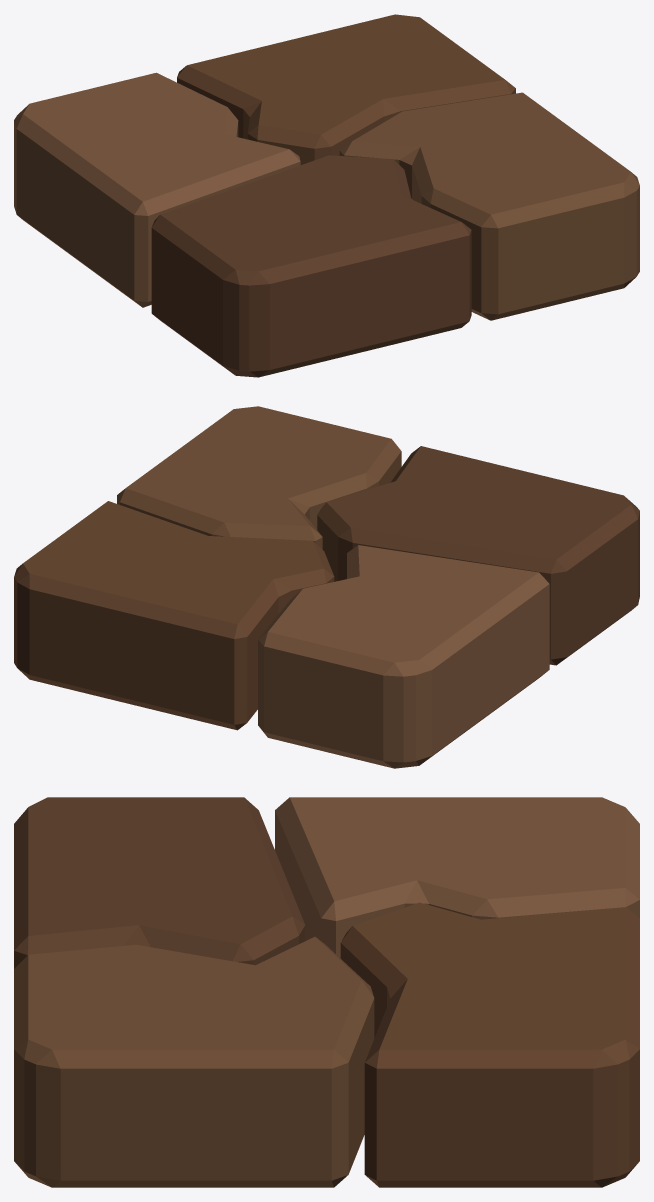
The model's file is crumbling_rock_block.obj.
3 views of the same model, one above another, from view 1: azimuth 30°, elevation 25°; view 2: azimuth 150°, elevation 25°; view 3: azimuth 270°, elevation 25° (orthographic). The views are drawn at different scales.
Visible parts, largest first — view 1: RockFragment_01, RockFragment_02, RockFragment_04, RockFragment_03; view 2: RockFragment_04, RockFragment_03, RockFragment_01, RockFragment_02; view 3: RockFragment_02, RockFragment_03, RockFragment_04, RockFragment_01.
Boxes of the visible parts, left/top/right/bottom form: RockFragment_01: left=151, top=155, right=471, bottom=377; RockFragment_02: left=339, top=92, right=639, bottom=320; RockFragment_04: left=14, top=72, right=300, bottom=307; RockFragment_03: left=177, top=14, right=515, bottom=164; RockFragment_04: left=258, top=545, right=549, bottom=768; RockFragment_03: left=14, top=501, right=334, bottom=730; RockFragment_01: left=317, top=446, right=639, bottom=665; RockFragment_02: left=117, top=406, right=401, bottom=549; RockFragment_02: left=14, top=937, right=374, bottom=1187; RockFragment_03: left=340, top=902, right=639, bottom=1187; RockFragment_04: left=275, top=797, right=639, bottom=958; RockFragment_01: left=14, top=797, right=305, bottom=968.
Bounding box in the file's own units: 3.9 × 0.95 × 3.9.
